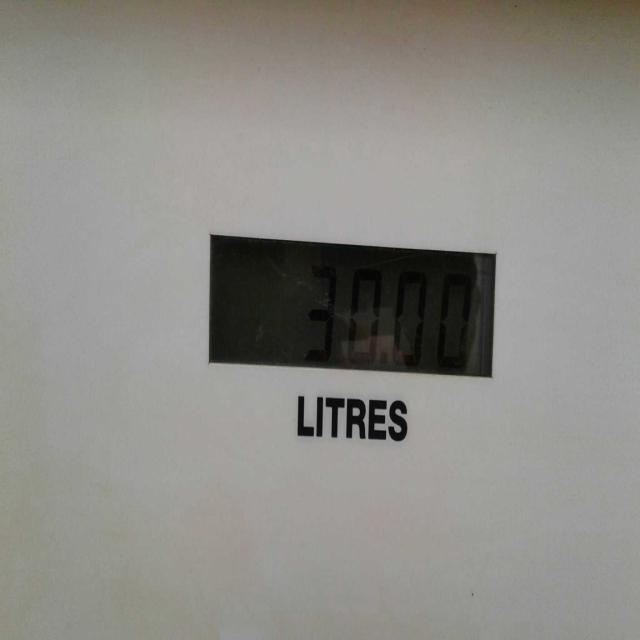.: (382, 348, 390, 368)
0: (346, 270, 376, 368), (396, 271, 424, 369), (438, 273, 468, 362)
3: (309, 264, 334, 361)
